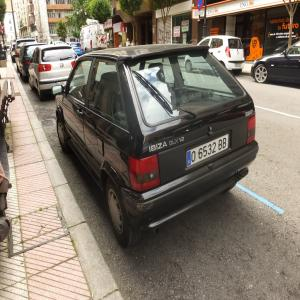Vehicle-registration-plate: (187, 134, 230, 167), (58, 81, 70, 87), (236, 62, 243, 68)
